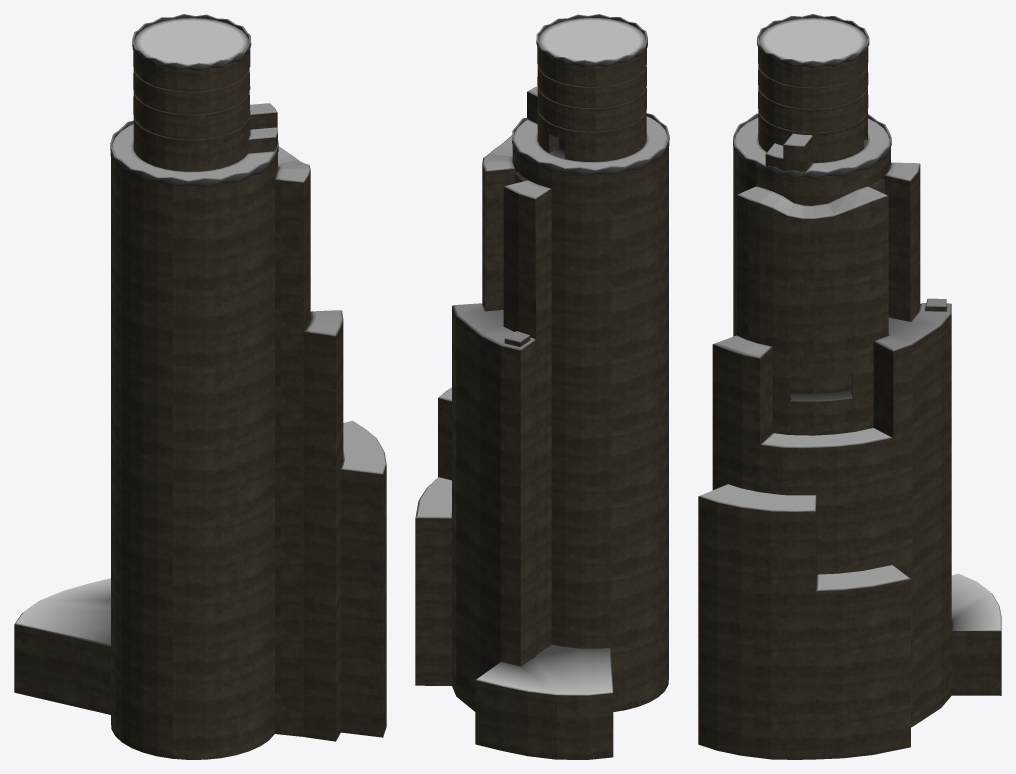
The model's file is HellWaterfallTowerPlanet.fbx.
3 renders of one model, left to right at view 1: azimuth 30°, elevation 25°; view 2: azimuth 150°, elevation 25°; view 3: azimuth 270°, elevation 25°, orthographic. The views are drawn at different scales.
Parts seen in each view (by area): view 1: cage, cage.002, cage.004; view 2: cage, cage.002, cage.004; view 3: cage, cage.002, cage.004.
Boxes of the visible parts, x1=… form: cage: x1=14, y1=49, x2=386, y2=759; cage.002: x1=14, y1=18, x2=386, y2=646; cage.004: x1=110, y1=14, x2=278, y2=187; cage: x1=415, y1=48, x2=668, y2=759; cage.002: x1=415, y1=18, x2=667, y2=695; cage.004: x1=512, y1=14, x2=669, y2=175; cage: x1=698, y1=47, x2=1001, y2=759; cage.002: x1=698, y1=18, x2=1001, y2=631; cage.004: x1=733, y1=14, x2=891, y2=178.
Size of the model in its own units: 518165 by 1286520 by 546966.
